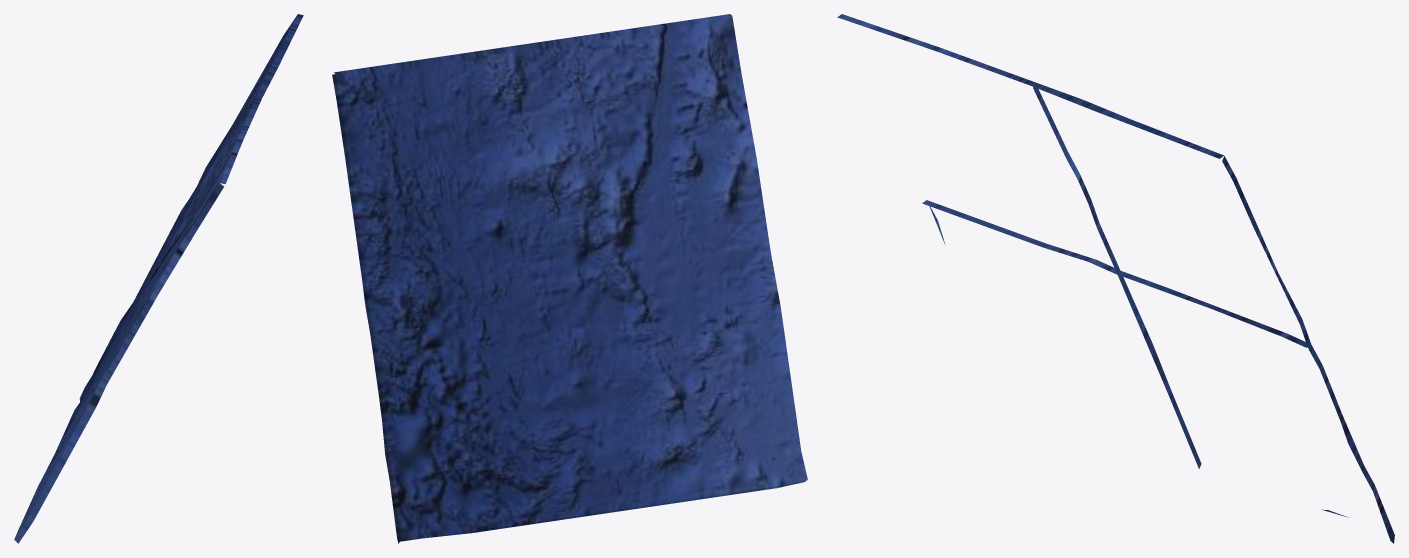
The picture shows the model from 3 angles, left to right: view 1: azimuth 30°, elevation 25°; view 2: azimuth 150°, elevation 25°; view 3: azimuth 270°, elevation 25°; orthographic projection. The views are drawn at different scales.
Bounding box in the file's own units: 295515 × 283666 × 306504.
1 material, 1 textured.
